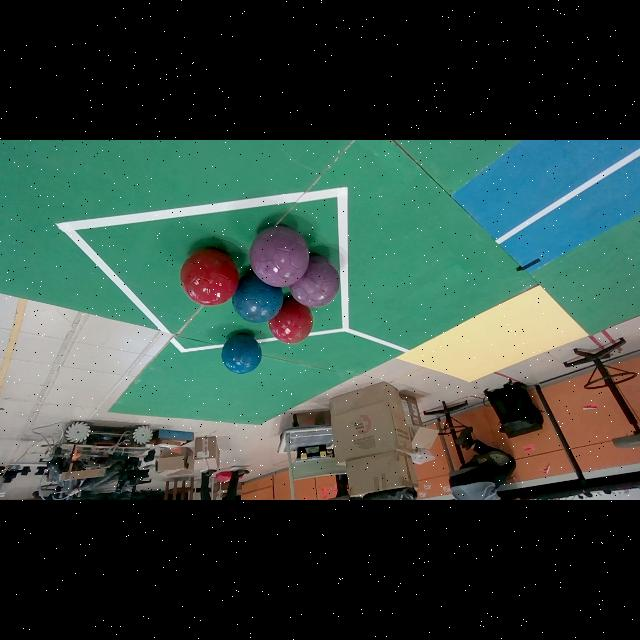B: (232, 272, 284, 323), (222, 334, 262, 374)
P: (249, 225, 309, 288), (289, 254, 339, 307)
R: (180, 249, 239, 306), (269, 298, 313, 344)
